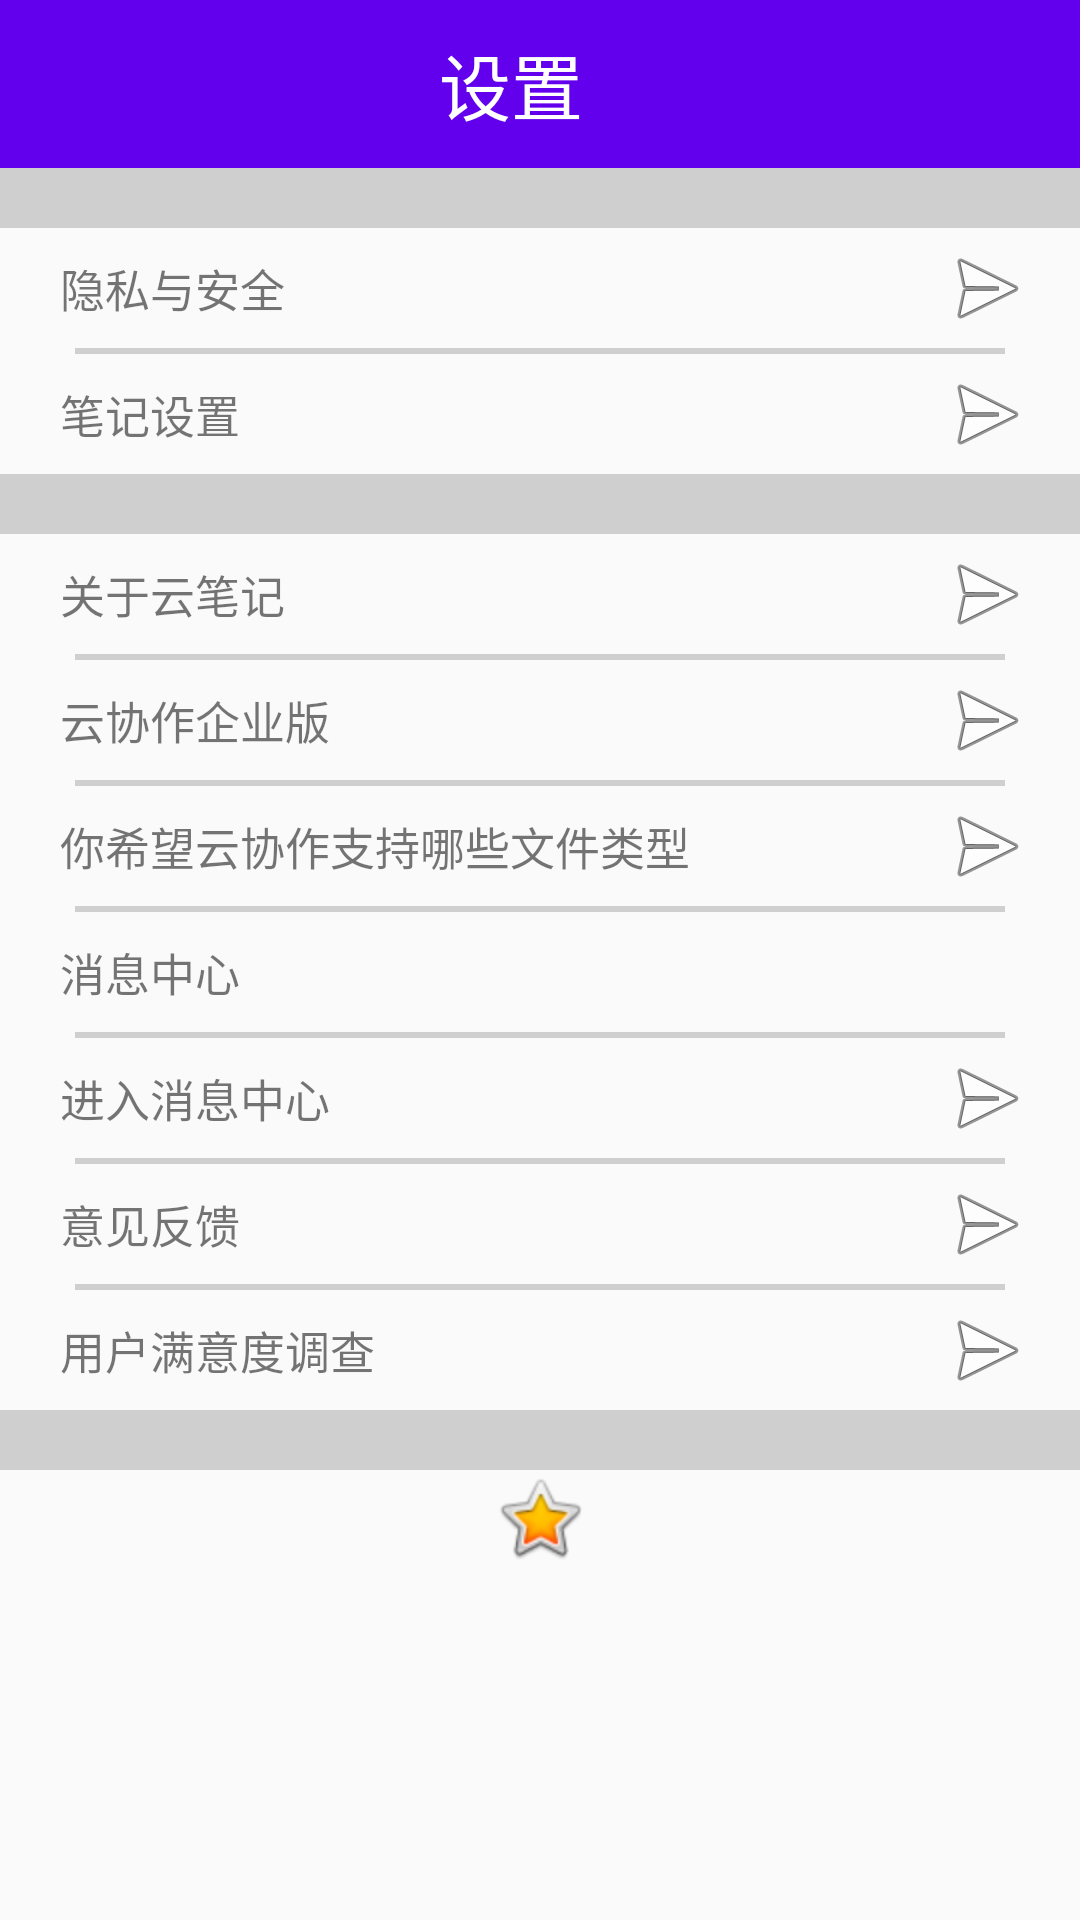

Icons on this 1080w x 1920h Android screen, each with its box as (x1, y1, x2, y2):
send: (957, 258, 1019, 319), (957, 384, 1019, 445), (957, 564, 1019, 625), (957, 690, 1019, 751), (957, 816, 1019, 877), (957, 1068, 1019, 1129), (957, 1194, 1019, 1255), (957, 1320, 1019, 1381)
star on: (501, 1480, 581, 1558)
